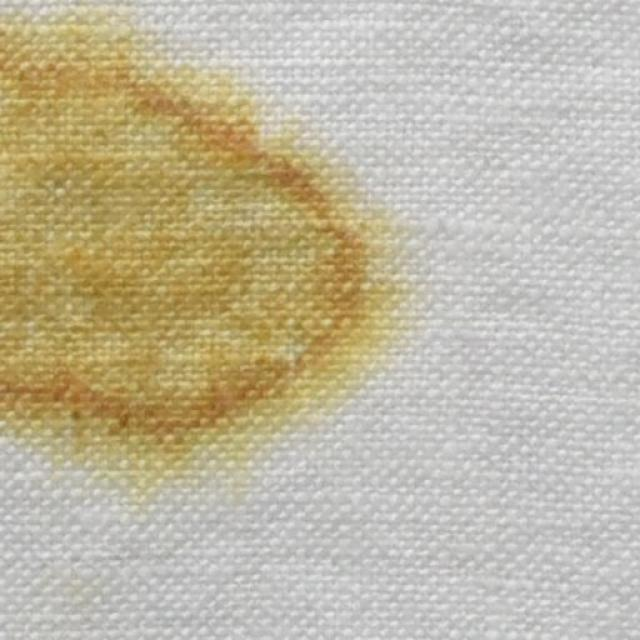Stain: (0, 12, 404, 502)
